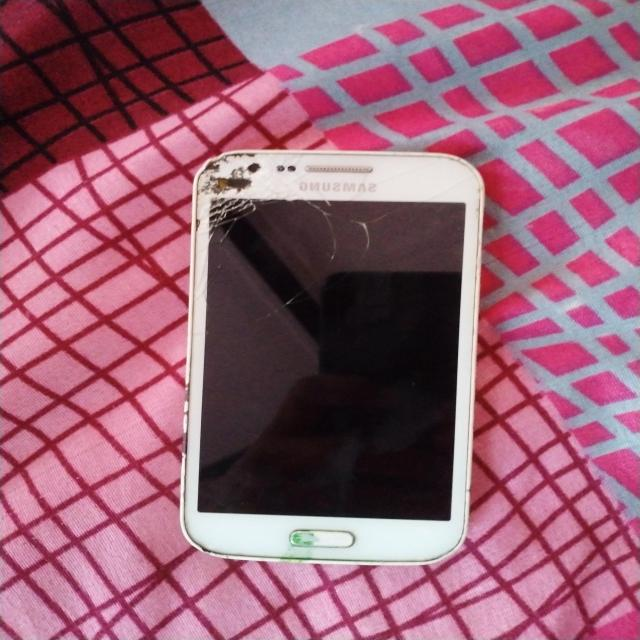mobile: (179, 149, 487, 569)
